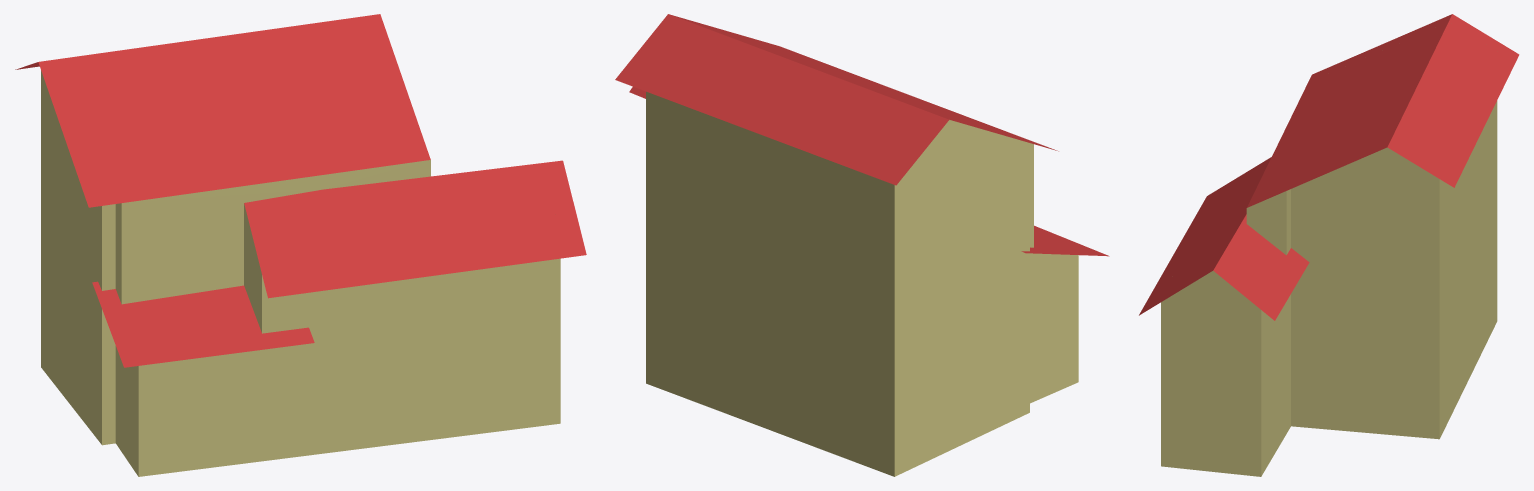
3 views of the same model, side by side, from view 1: azimuth 30°, elevation 25°; view 2: azimuth 150°, elevation 25°; view 3: azimuth 270°, elevation 25° (orthographic). The views are drawn at different scales.
Size of the model in its own units: 18.07 by 15.16 by 12.97.
